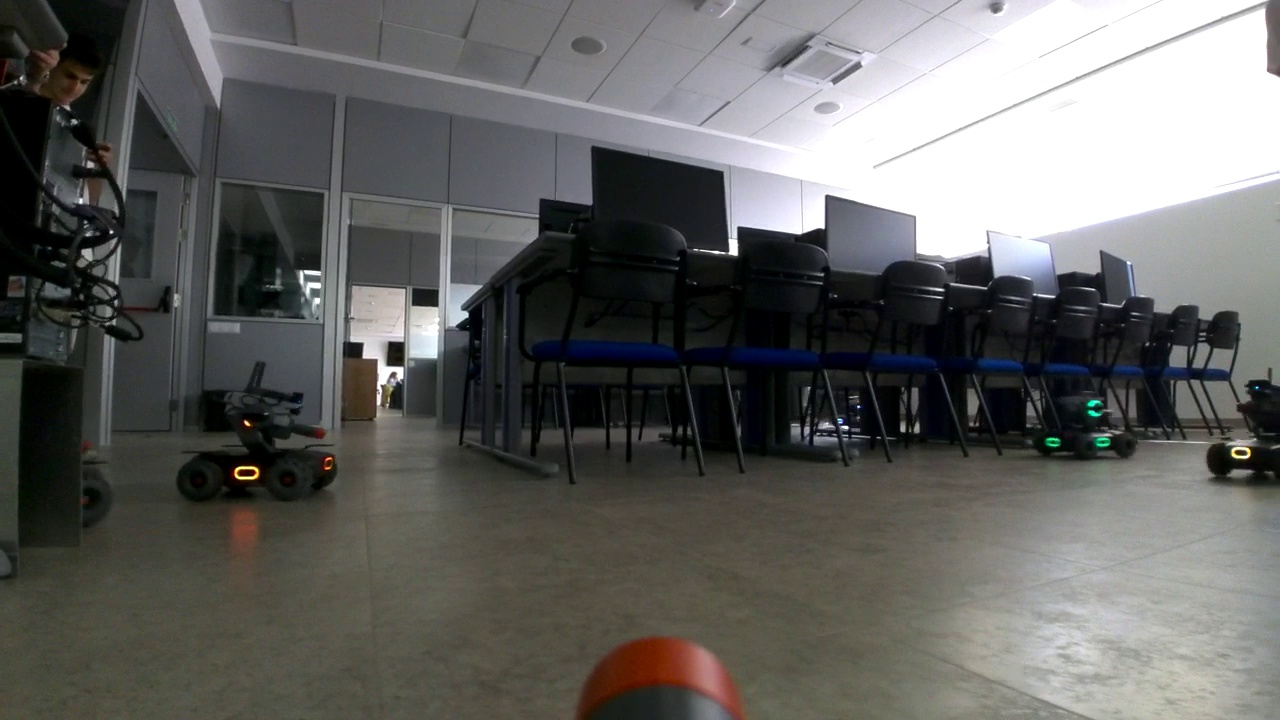robot: (176, 358, 337, 502), (1033, 373, 1136, 463), (1206, 365, 1280, 481)
